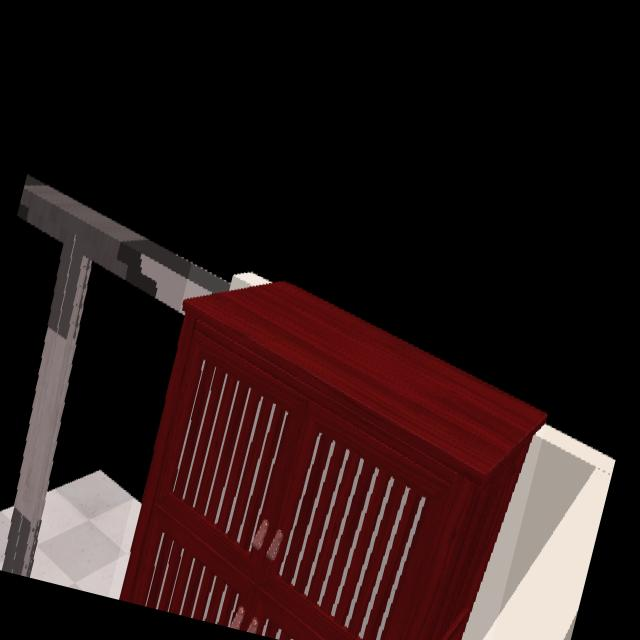wardrobe: (117, 281, 548, 640)
